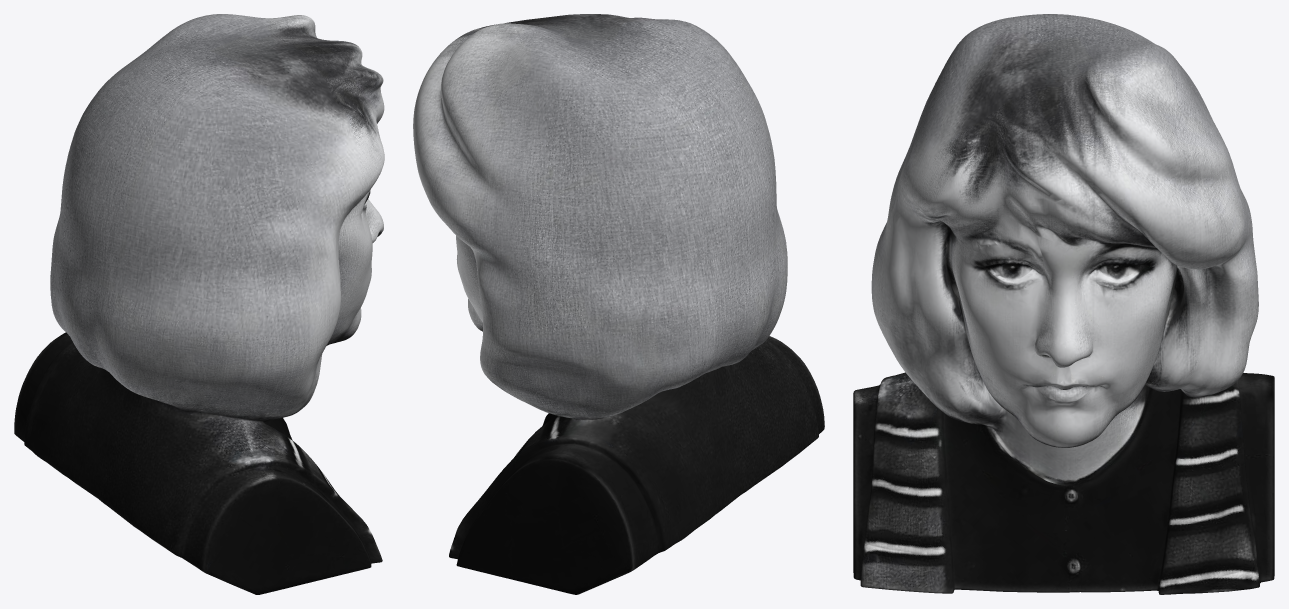
3 views of the same model, side by side, from view 1: azimuth 30°, elevation 25°; view 2: azimuth 150°, elevation 25°; view 3: azimuth 270°, elevation 25° (orthographic). The views are drawn at different scales.
Parts seen in each view (by area): view 1: tripo_node_0fd13553-0740-45bb-afb4-242072ef96c9; view 2: tripo_node_0fd13553-0740-45bb-afb4-242072ef96c9; view 3: tripo_node_0fd13553-0740-45bb-afb4-242072ef96c9.
Boxes of the visible parts, left/top/right/bottom form: tripo_node_0fd13553-0740-45bb-afb4-242072ef96c9: left=14, top=14, right=384, bottom=594; tripo_node_0fd13553-0740-45bb-afb4-242072ef96c9: left=413, top=14, right=824, bottom=594; tripo_node_0fd13553-0740-45bb-afb4-242072ef96c9: left=853, top=14, right=1274, bottom=594.
Bounding box in the file's own units: 0.6819 × 0.9823 × 0.7271.
1 material, 1 textured.
